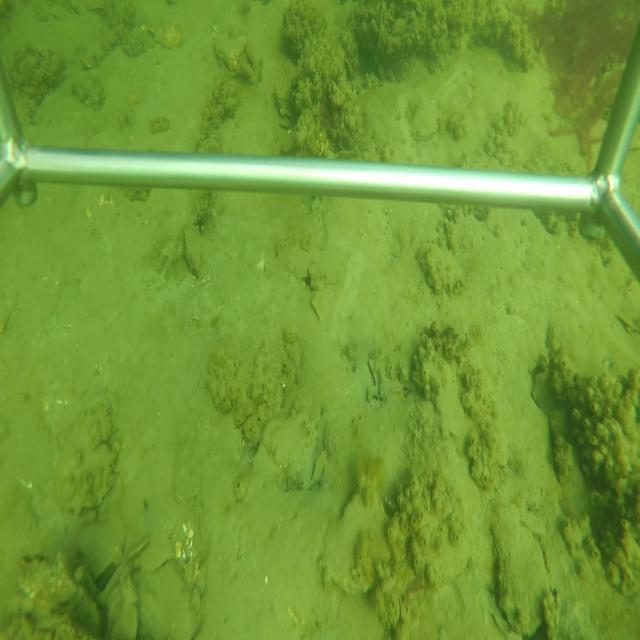Oyster-Closed: (489, 498, 552, 640), (181, 222, 208, 281), (213, 30, 250, 68)
Oyster-Indeterminate: (313, 485, 395, 602)
